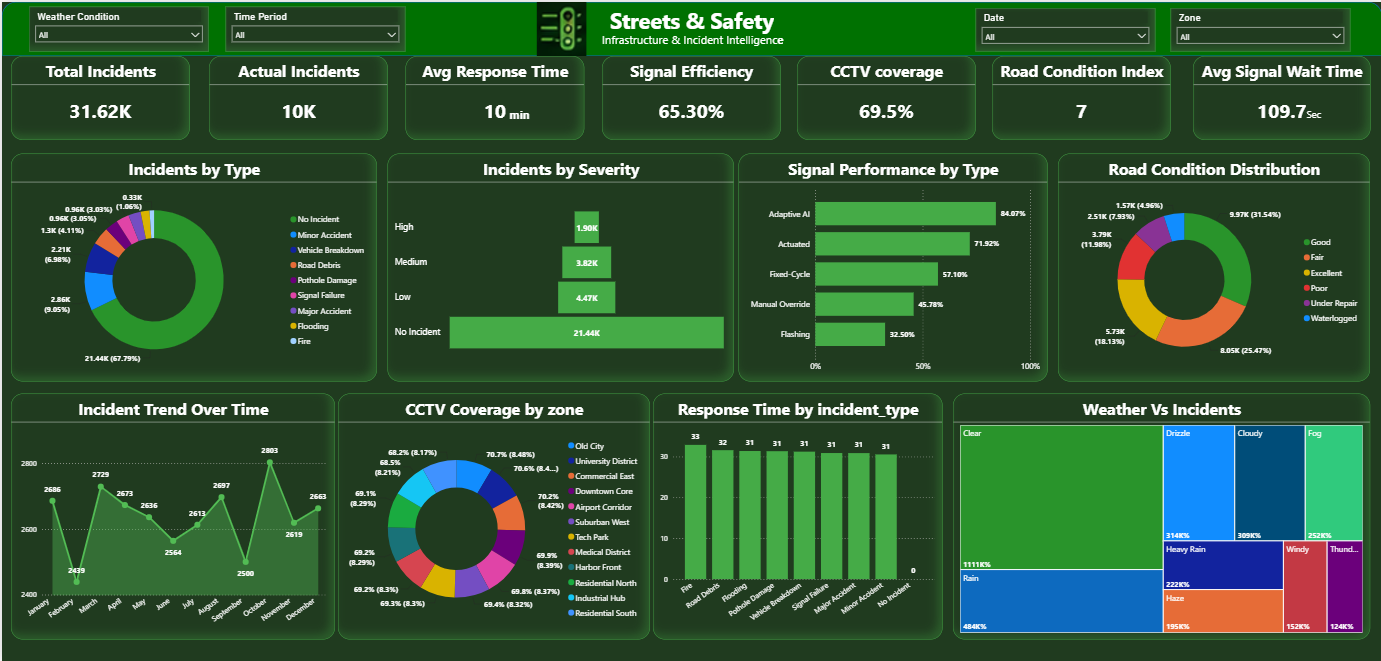

This screenshot's page, from the dashboard's own definition file:
{"tool":"powerbi","page":{"name":"Streets & Safety","canvas":[2300,1100],"ordinal":1},"visuals":[{"type":"card","title":"Total Incidents","fields":{"Values":["smart_city_traffic_final.Total Incidents"]},"box":[14,90,298,140],"z":0},{"type":"donutChart","title":"Incidents by Type","fields":{"Y":["CountNonNull(smart_city_traffic_final.incident_type)"],"Category":["smart_city_traffic_final.incident_type"]},"box":[15,252.5,610,380],"z":1000},{"type":"funnel","title":"Incidents by Severity","fields":{"Category":["smart_city_traffic_final.incident_severity"],"Y":["CountNonNull(smart_city_traffic_final.incident_severity)"]},"box":[642.5,252.5,577.5,380],"z":2000},{"type":"lineChart","title":"Incident Trend Over Time","fields":{"Category":["smart_city_traffic_final.date.Variation.Date Hierarchy.Month","smart_city_traffic_final.date.Variation.Date Hierarchy.Day"],"Y":["smart_city_traffic_final.Incident Count"]},"box":[15,652.5,540,410],"z":3000},{"type":"clusteredBarChart","title":"Signal Performance by Type","fields":{"Category":["smart_city_traffic_final.signal_type"],"Y":["smart_city_traffic_final.Signal Efficiency"]},"box":[1227.5,252.5,515,380],"z":4000},{"type":"donutChart","title":"CCTV Coverage by zone","fields":{"Category":["smart_city_traffic_final.zone"],"Y":["smart_city_traffic_final.CCTV Coverage Score"]},"box":[560,652.5,520,410],"z":5000},{"type":"donutChart","title":" Road Condition Distribution","fields":{"Category":["smart_city_traffic_final.road_condition"],"Y":["CountNonNull(smart_city_traffic_final.road_condition)"]},"box":[1760,252.5,520,380],"z":6000},{"type":"treemap","title":"Weather Vs Incidents","fields":{"Group":["smart_city_traffic_final.weather_condition"],"Values":["smart_city_traffic_final.Incident Count"]},"box":[1585,652.5,695,410],"z":7000},{"type":"clusteredColumnChart","title":"Response Time by incident_type","fields":{"Category":["smart_city_traffic_final.incident_type"],"Y":["smart_city_traffic_final.Avg Response Time"]},"box":[1085,652.5,482.5,410],"z":8000},{"type":"shape","title":"Streets & Safety","box":[0,0,2300,90],"z":9000},{"type":"card","title":"Avg Response Time","fields":{"Values":["smart_city_traffic_final.Avg Response Time"]},"box":[672,90,298,140],"z":10000},{"type":"card","title":"Signal Efficiency","fields":{"Values":["smart_city_traffic_final.Signal Efficiency"]},"box":[1000,90,298,140],"z":11000},{"type":"card","title":"CCTV coverage","fields":{"Values":["smart_city_traffic_final.CCTV Coverage Score"]},"box":[1324,90,298,140],"z":12000},{"type":"card","title":"Road Condition Index","fields":{"Values":["smart_city_traffic_final.Road Condition Score"]},"box":[1650,90,298,140],"z":13000},{"type":"card","title":"Avg Signal Wait Time","fields":{"Values":["smart_city_traffic_final.Avg Wait Time"]},"box":[1984,90,296,140],"z":14000},{"type":"card","title":"Actual Incidents","fields":{"Values":["smart_city_traffic_final.Actual Incidents"]},"box":[344,90,298,140],"z":15000},{"type":"textbox","box":[2132.5,170,107.5,60],"z":16000},{"type":"textbox","box":[755,170,215,60],"z":17000},{"type":"slicer","fields":{"Values":["smart_city_traffic_final.date"]},"box":[1622.5,10,300,72.5],"z":18000},{"type":"slicer","fields":{"Values":["smart_city_traffic_final.zone"]},"box":[1947.5,10,300,72.5],"z":19000},{"type":"slicer","fields":{"Values":["smart_city_traffic_final.weather_condition"]},"box":[45,7.5,300,75],"z":20000},{"type":"slicer","fields":{"Values":["smart_city_traffic_final.Time Period"]},"box":[372.5,7.5,300,75],"z":21000},{"type":"textbox","box":[970,45,362.5,60],"z":22000},{"type":"image","box":[840,0,185,90],"z":23000}]}

Visuals, with their boxes in screenshot pixels (x1, y1, x2, y2), scaled from the page's 2300x1100 canvas onto the 1381x661 screenshot:
"Total Incidents" card: <region>8, 54, 187, 138</region>
"Incidents by Type" donutChart: <region>9, 152, 375, 380</region>
"Incidents by Severity" funnel: <region>386, 152, 733, 380</region>
"Incident Trend Over Time" lineChart: <region>9, 392, 333, 638</region>
"Signal Performance by Type" clusteredBarChart: <region>737, 152, 1046, 380</region>
"CCTV Coverage by zone" donutChart: <region>336, 392, 648, 638</region>
" Road Condition Distribution" donutChart: <region>1057, 152, 1369, 380</region>
"Weather Vs Incidents" treemap: <region>952, 392, 1369, 638</region>
"Response Time by incident_type" clusteredColumnChart: <region>651, 392, 941, 638</region>
"Streets & Safety" shape: <region>0, 0, 1380, 54</region>
"Avg Response Time" card: <region>403, 54, 582, 138</region>
"Signal Efficiency" card: <region>600, 54, 779, 138</region>
"CCTV coverage" card: <region>795, 54, 974, 138</region>
"Road Condition Index" card: <region>991, 54, 1170, 138</region>
"Avg Signal Wait Time" card: <region>1191, 54, 1369, 138</region>
"Actual Incidents" card: <region>207, 54, 385, 138</region>
textbox: <region>1280, 102, 1345, 138</region>
textbox: <region>453, 102, 582, 138</region>
slicer - smart_city_traffic_final.date: <region>974, 6, 1154, 50</region>
slicer - smart_city_traffic_final.zone: <region>1169, 6, 1349, 50</region>
slicer - smart_city_traffic_final.weather_condition: <region>27, 5, 207, 50</region>
slicer - smart_city_traffic_final.Time Period: <region>224, 5, 404, 50</region>
textbox: <region>582, 27, 800, 63</region>
image: <region>504, 0, 615, 54</region>
